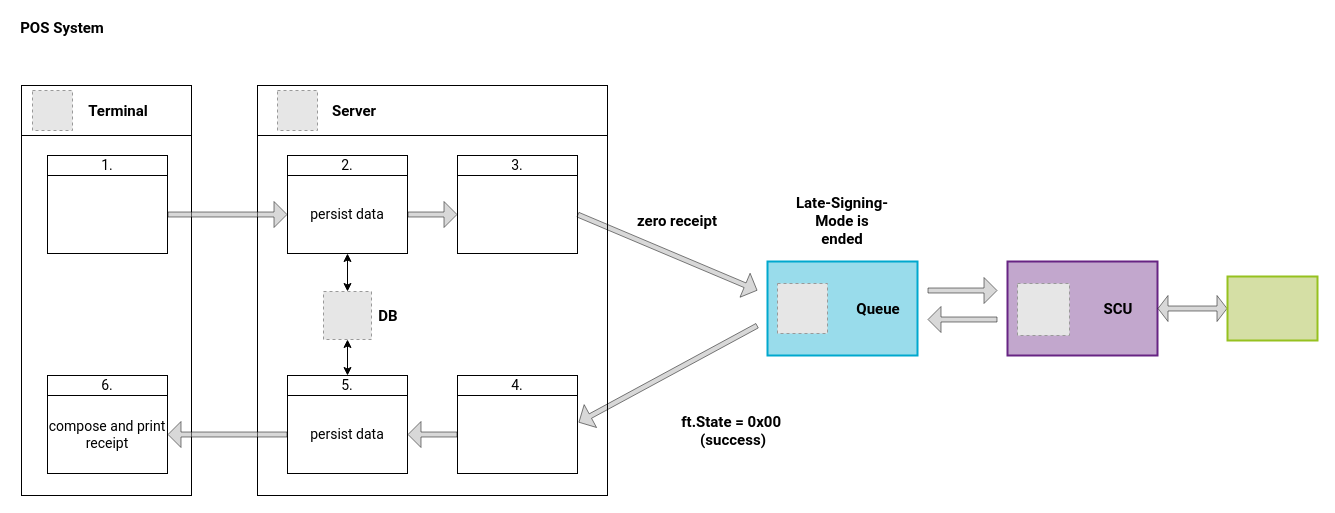
Image size: 1335x513. Some labels were removed from this diagram. Grey dashed boxes stand in for pictures. Here are the shapes that lost their labels. From the top down, the centre of each, then its label:
At point 107,214: "trigger functionality (end post recording)".
At point 517,214: "send sign request (zero receipt)".
At point 1272,308: "SSCD".
At point 517,434: "process response".
